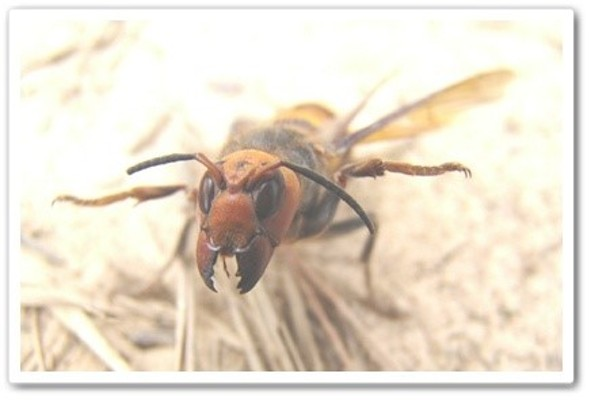asian_giant_hornet: (124, 72, 506, 302)
